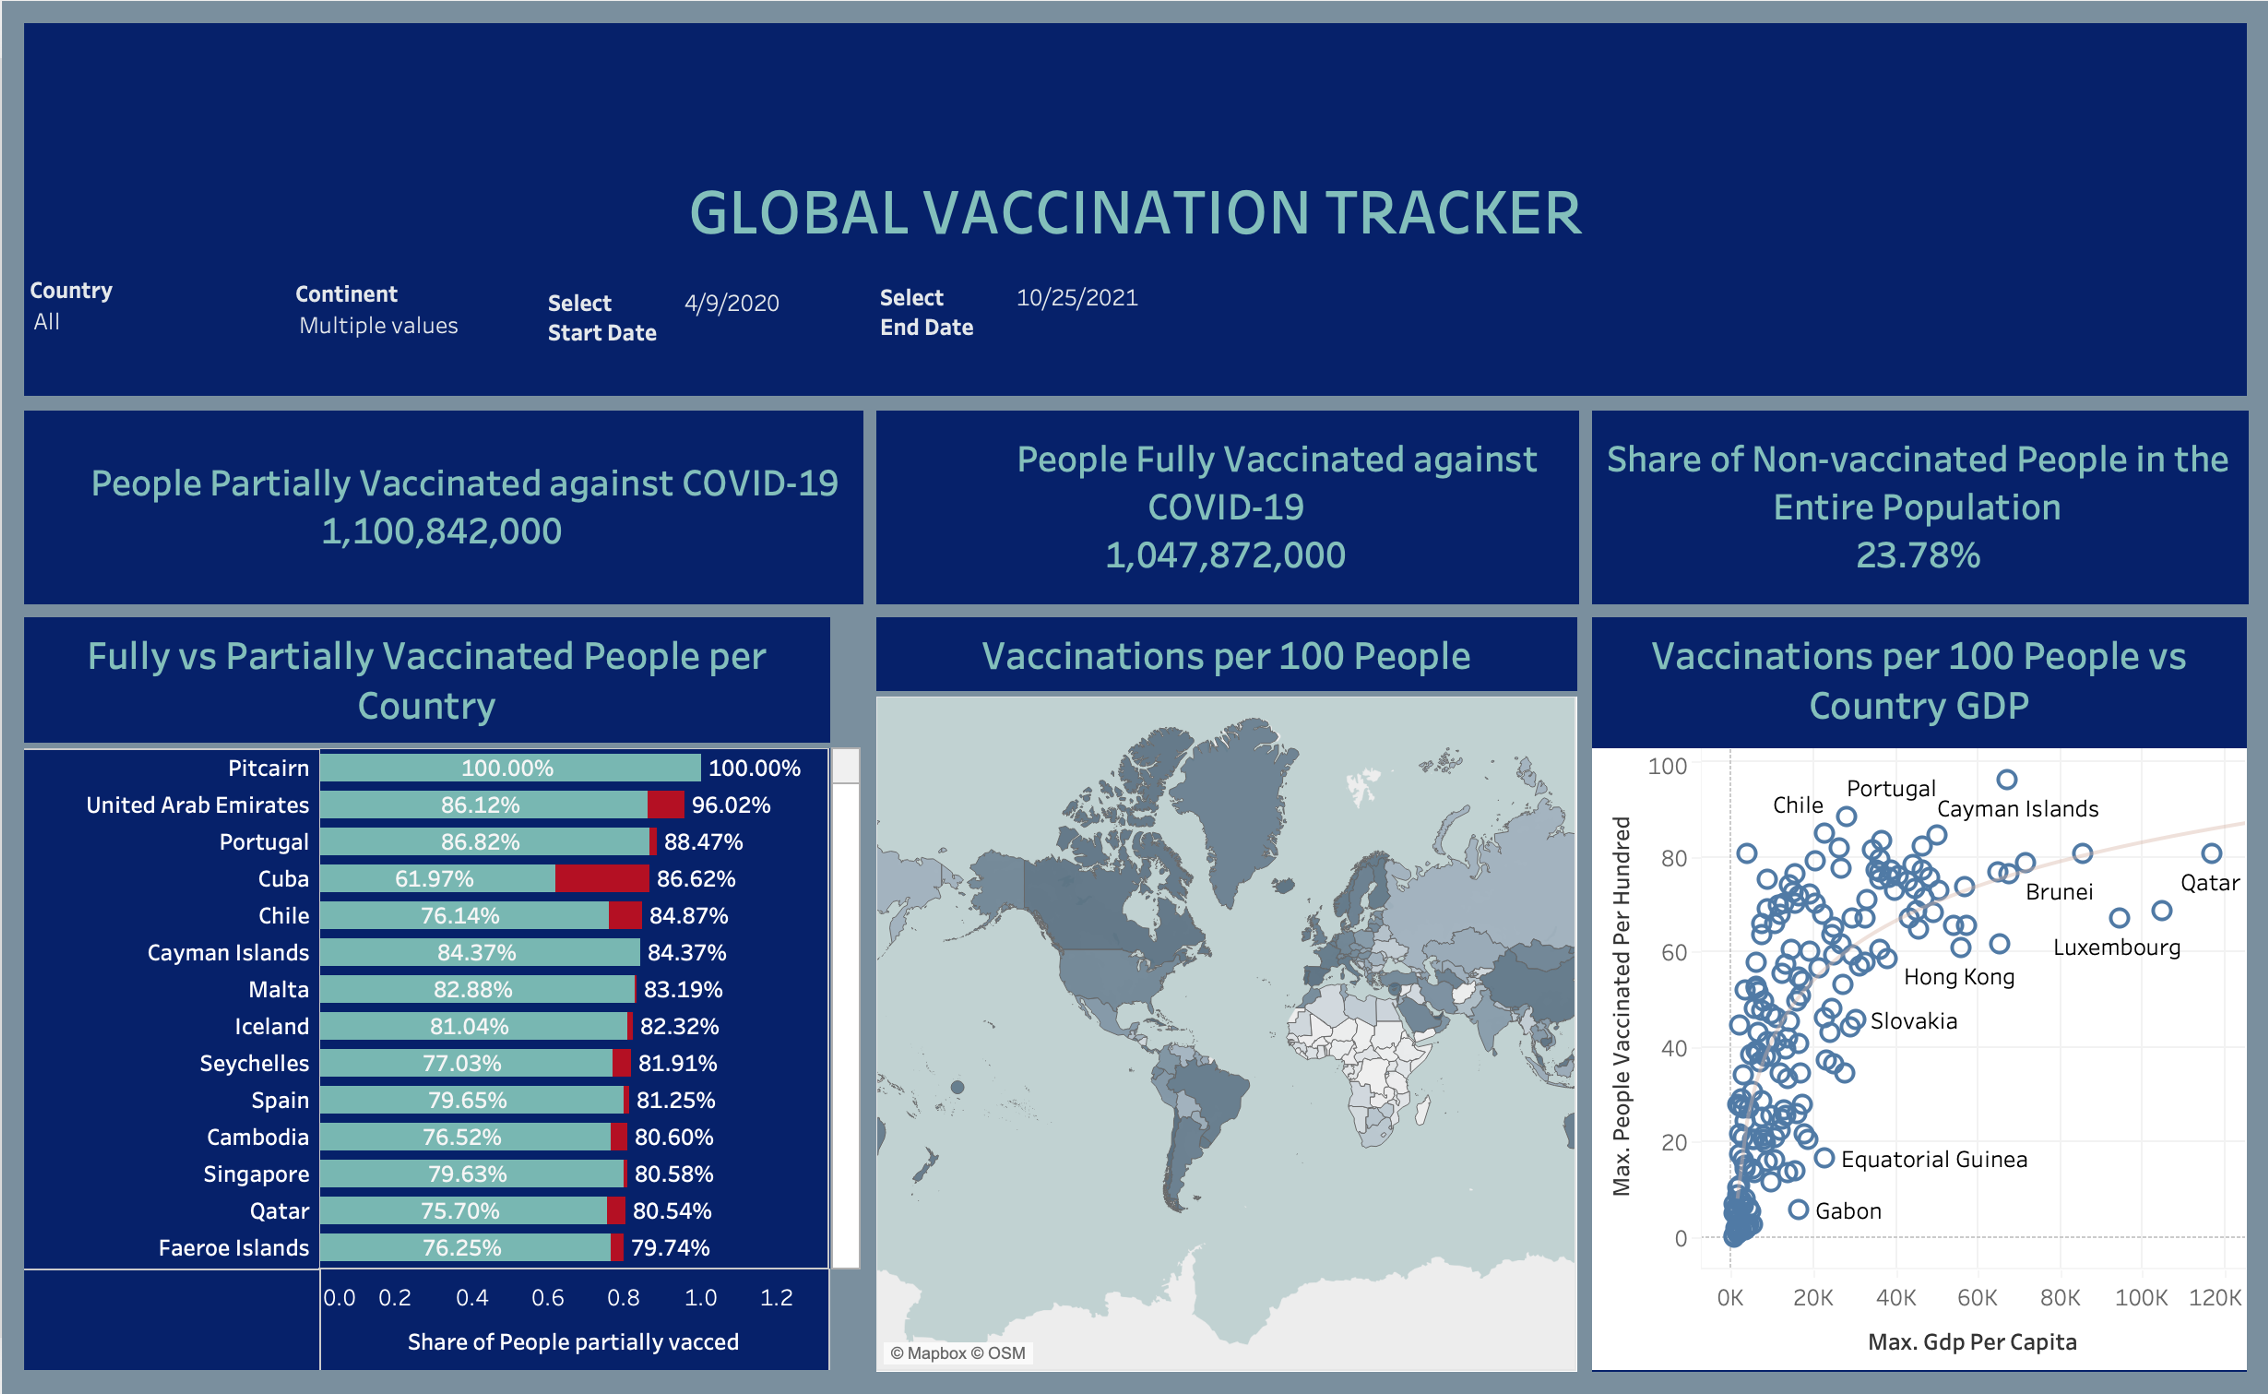

The dashboard page shown, as its layout file describes it:
{"tool":"tableau","page":{"name":"Global Vaccination Tracker","canvas":[1000,1000],"units":"permille","ordinal":0},"visuals":[{"type":"title","box":[6.5,10.6,987,278.2]},{"type":"filter","title":"KP1-partially vacc.","param":"[federated.0tmbc7j13jipxj13mtmhh1r9b069].[none:Location (copy):nk]","box":[12.2,194.7,110.7,51.7]},{"type":"filter","title":"KP1-partially vacc.","param":"[federated.0tmbc7j13jipxj13mtmhh1r9b069].[none:Continent:nk]","box":[129.4,197.3,100.1,53]},{"type":"parameter","param":"[Parameters].[Select Start Date (copy)_1066156862002057219]","box":[387.3,201.3,128.6,45]},{"type":"parameter","param":"[Parameters].[Parameter 1]","box":[240.8,205.3,135.1,45]},{"type":"worksheet","title":"KP1-partially vacc.","mark":"Automatic","box":[6.5,288.8,376.2,148.3]},{"type":"worksheet","title":"KP2-fully vacc. ","mark":"Automatic","box":[382.7,288.8,315.9,148.3]},{"type":"worksheet","title":"KP3-NOT vacc.","mark":"Automatic","box":[698.5,288.8,295,148.3]},{"type":"worksheet","title":"Vacced vs Partially vaxx","mark":"Bar","rows":["Location"],"cols":["Calculation_1066156861993254912","Share of People partially vacced (copy)_1066156861994975234"],"box":[6.5,437.1,376.2,552.3]},{"type":"worksheet","title":"Vaccinations per hundred people","mark":"Automatic","box":[382.7,437.1,315.9,552.3]},{"type":"worksheet","title":"Vaccinated over GDP","mark":"Automatic","rows":["People Vaccinated Per Hundred"],"cols":["Gdp Per Capita"],"box":[698.5,437.1,295,552.3]}]}

Visuals, with their boxes on the dashboard's canvas, which has no fixed pixel size, in thousandths of its width and height (x1, y1, x2, y2). These are canvas units, not pixel positions in the 2268x1394 screenshot, which may show the page scaled, cropped or inside an application window:
title: <bbox>6, 11, 994, 289</bbox>
"KP1-partially vacc." filter: <bbox>12, 195, 123, 246</bbox>
"KP1-partially vacc." filter: <bbox>129, 197, 230, 250</bbox>
parameter: <bbox>387, 201, 516, 246</bbox>
parameter: <bbox>241, 205, 376, 250</bbox>
"KP1-partially vacc." worksheet: <bbox>6, 289, 383, 437</bbox>
"KP2-fully vacc. " worksheet: <bbox>383, 289, 699, 437</bbox>
"KP3-NOT vacc." worksheet: <bbox>698, 289, 994, 437</bbox>
"Vacced vs Partially vaxx" worksheet (Bar marks): <bbox>6, 437, 383, 989</bbox>
"Vaccinations per hundred people" worksheet: <bbox>383, 437, 699, 989</bbox>
"Vaccinated over GDP" worksheet: <bbox>698, 437, 994, 989</bbox>
